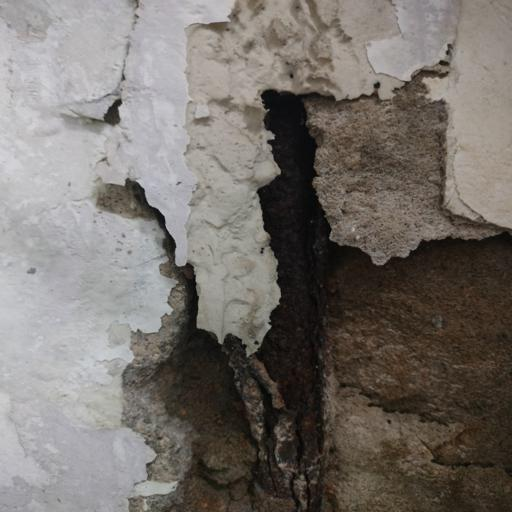spalling: (87, 31, 512, 512)
